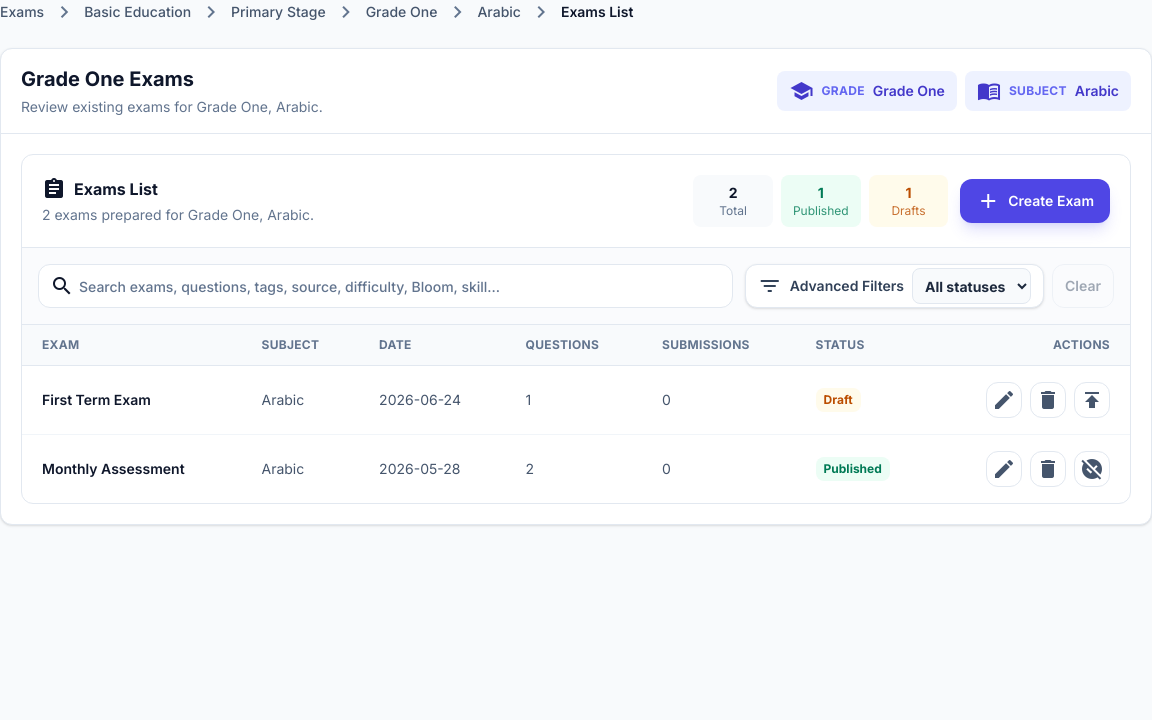
Test case: TenantExamsBasicEducationExamCreateComponent › opens a confirmation modal before deleting a saved exam from the list action
Step 1. Click the button named "Delete First Term Exam" → (1048, 400), box [1030,382,1066,418]
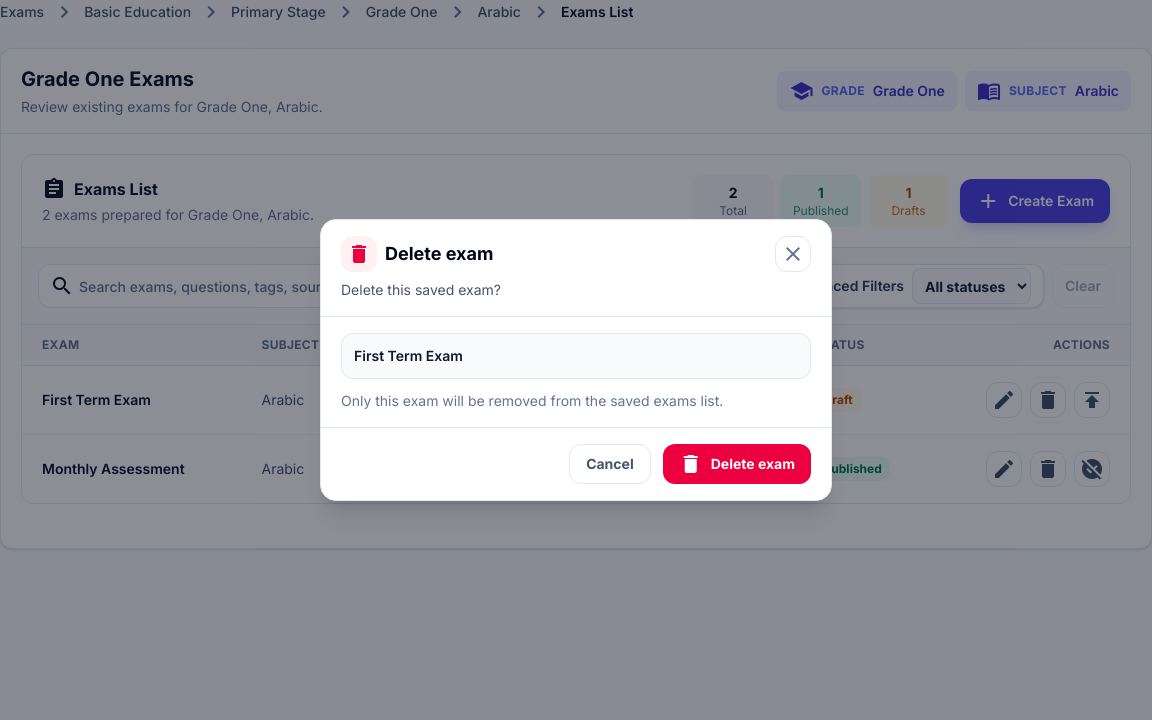
Expected: the dialog with id "delete-exam-modal" is shown, [320,219,832,501]
Expected: the dialog with id "delete-exam-modal" shows "Delete exam", [385,243,493,264]
Expected: the dialog with id "delete-exam-modal" shows "First Term Exam", [354,347,463,364]
Step 2. Click the button "Delete exam" → (737, 464), box [663,444,811,484]
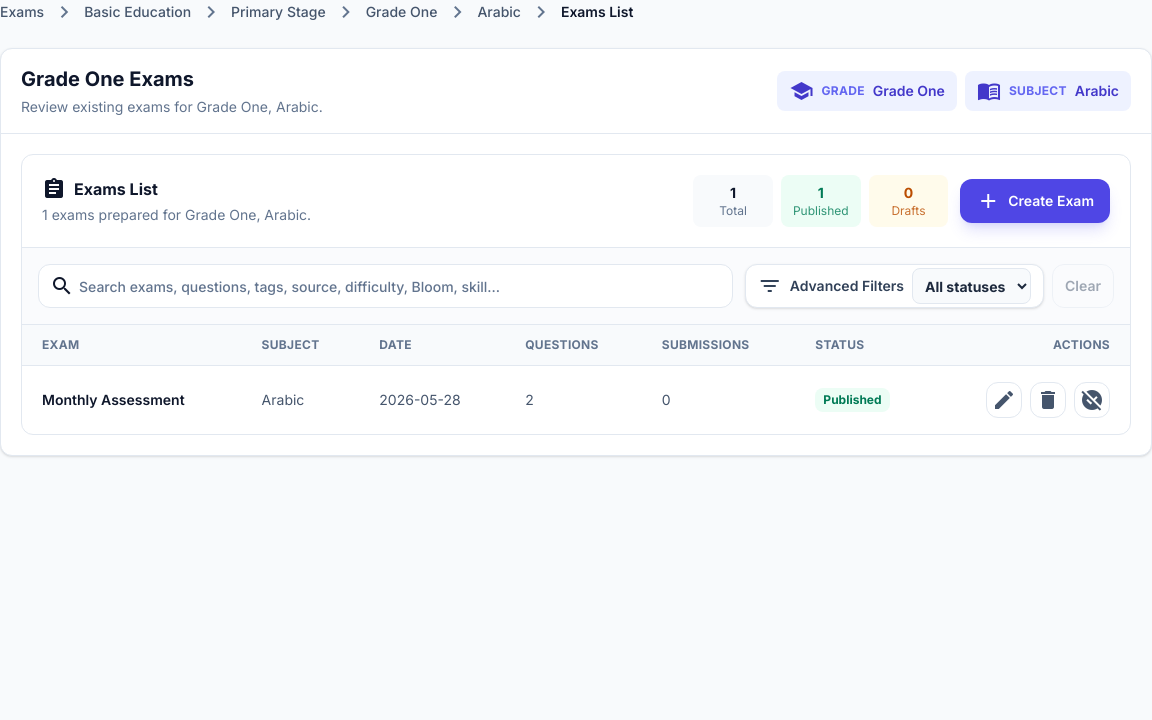
Expected: the text "Monthly Assessment" is shown, [22,366,242,434]
Expected: the text "First Term Exam" is gone
